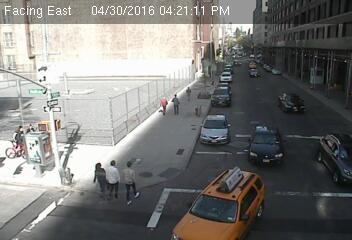neg: (41, 86, 68, 122), (75, 82, 101, 117), (266, 64, 290, 96), (189, 17, 210, 45), (137, 44, 157, 70), (228, 36, 245, 58)
pos: (120, 159, 154, 205), (77, 159, 106, 197), (168, 93, 185, 115), (155, 95, 172, 117), (181, 83, 197, 104)
